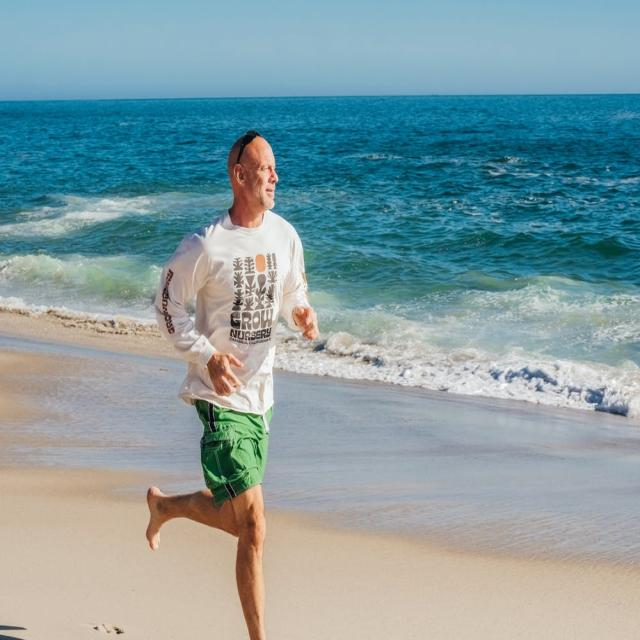running: (141, 124, 319, 640)
